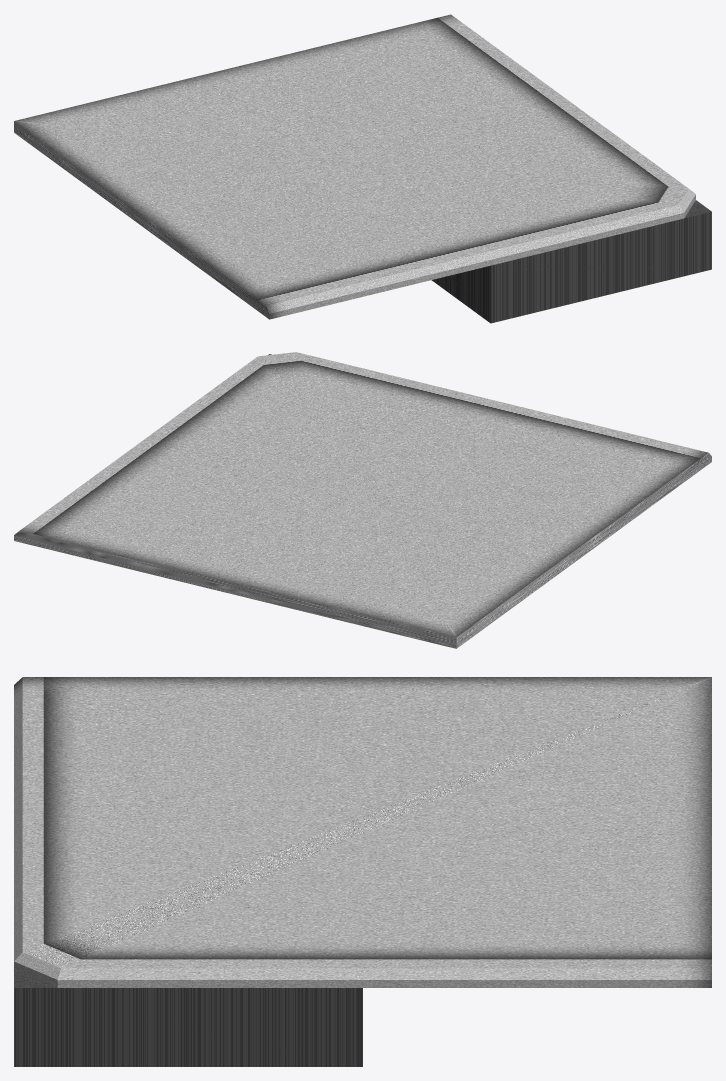
The model's file is sidewalkCornerLarge.fbx.
The picture shows the model from 3 angles, top to bottom: view 1: azimuth 30°, elevation 25°; view 2: azimuth 150°, elevation 25°; view 3: azimuth 270°, elevation 25°; orthographic projection. The views are drawn at different scales.
Visible parts, largest first — view 1: tileSidewalkCorner; view 2: tileSidewalkCorner; view 3: tileSidewalkCorner.
Part boxes in pixels (bbox=[...]): tileSidewalkCorner: bbox=[14, 14, 711, 323]; tileSidewalkCorner: bbox=[14, 352, 711, 648]; tileSidewalkCorner: bbox=[14, 677, 711, 1066].
Bounding box in the file's own units: 800 × 120 × 800.
2 materials, 2 textured.
